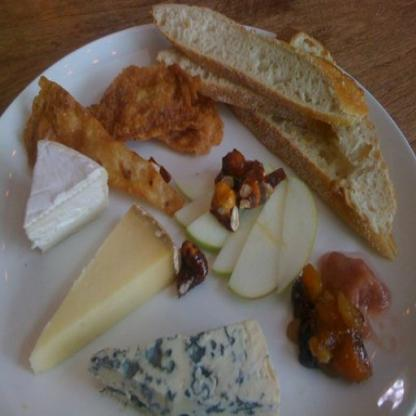bread: (147, 0, 396, 246)
parmesan cheese: (32, 208, 170, 369)
